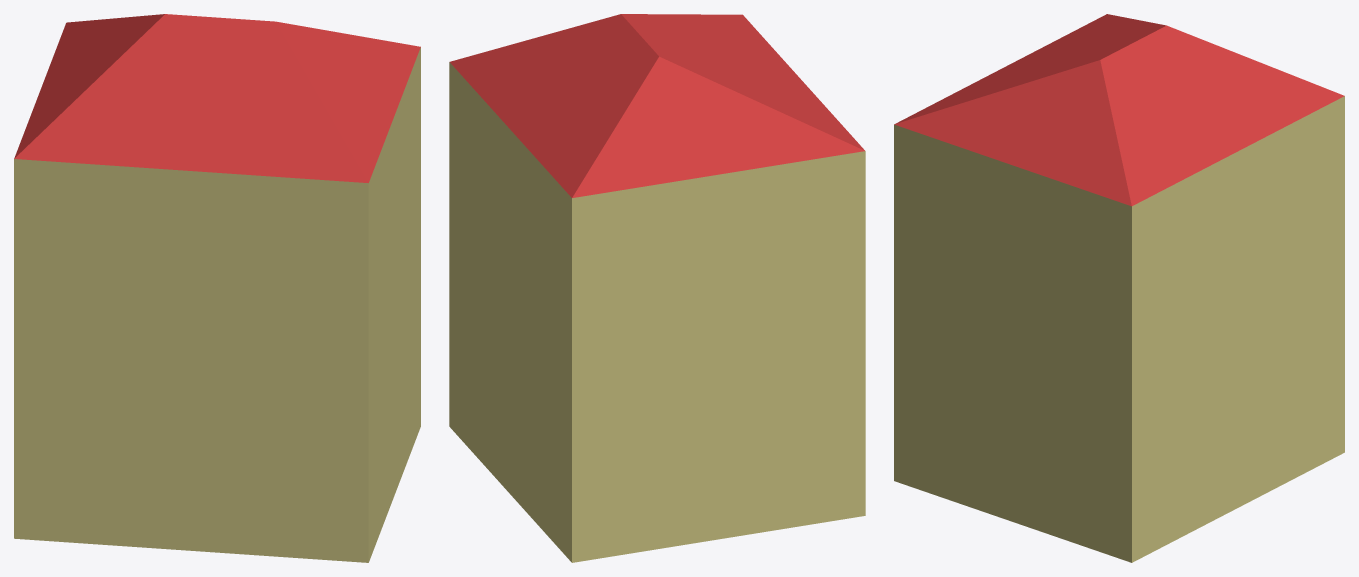
3 views of the same model, side by side, from view 1: azimuth 30°, elevation 25°; view 2: azimuth 150°, elevation 25°; view 3: azimuth 270°, elevation 25° (orthographic). The views are drawn at different scales.
Visible parts, largest first — view 1: group_4, group_3; view 2: group_4, group_3; view 3: group_4, group_3.
Boxes of the visible parts, bbox=[...] form: group_4: bbox=[14, 47, 420, 562]; group_3: bbox=[14, 14, 420, 182]; group_4: bbox=[449, 62, 865, 562]; group_3: bbox=[450, 14, 864, 197]; group_4: bbox=[894, 96, 1344, 562]; group_3: bbox=[894, 14, 1344, 206].
Size of the model in its own units: 12.2 by 12.09 by 12.68.
